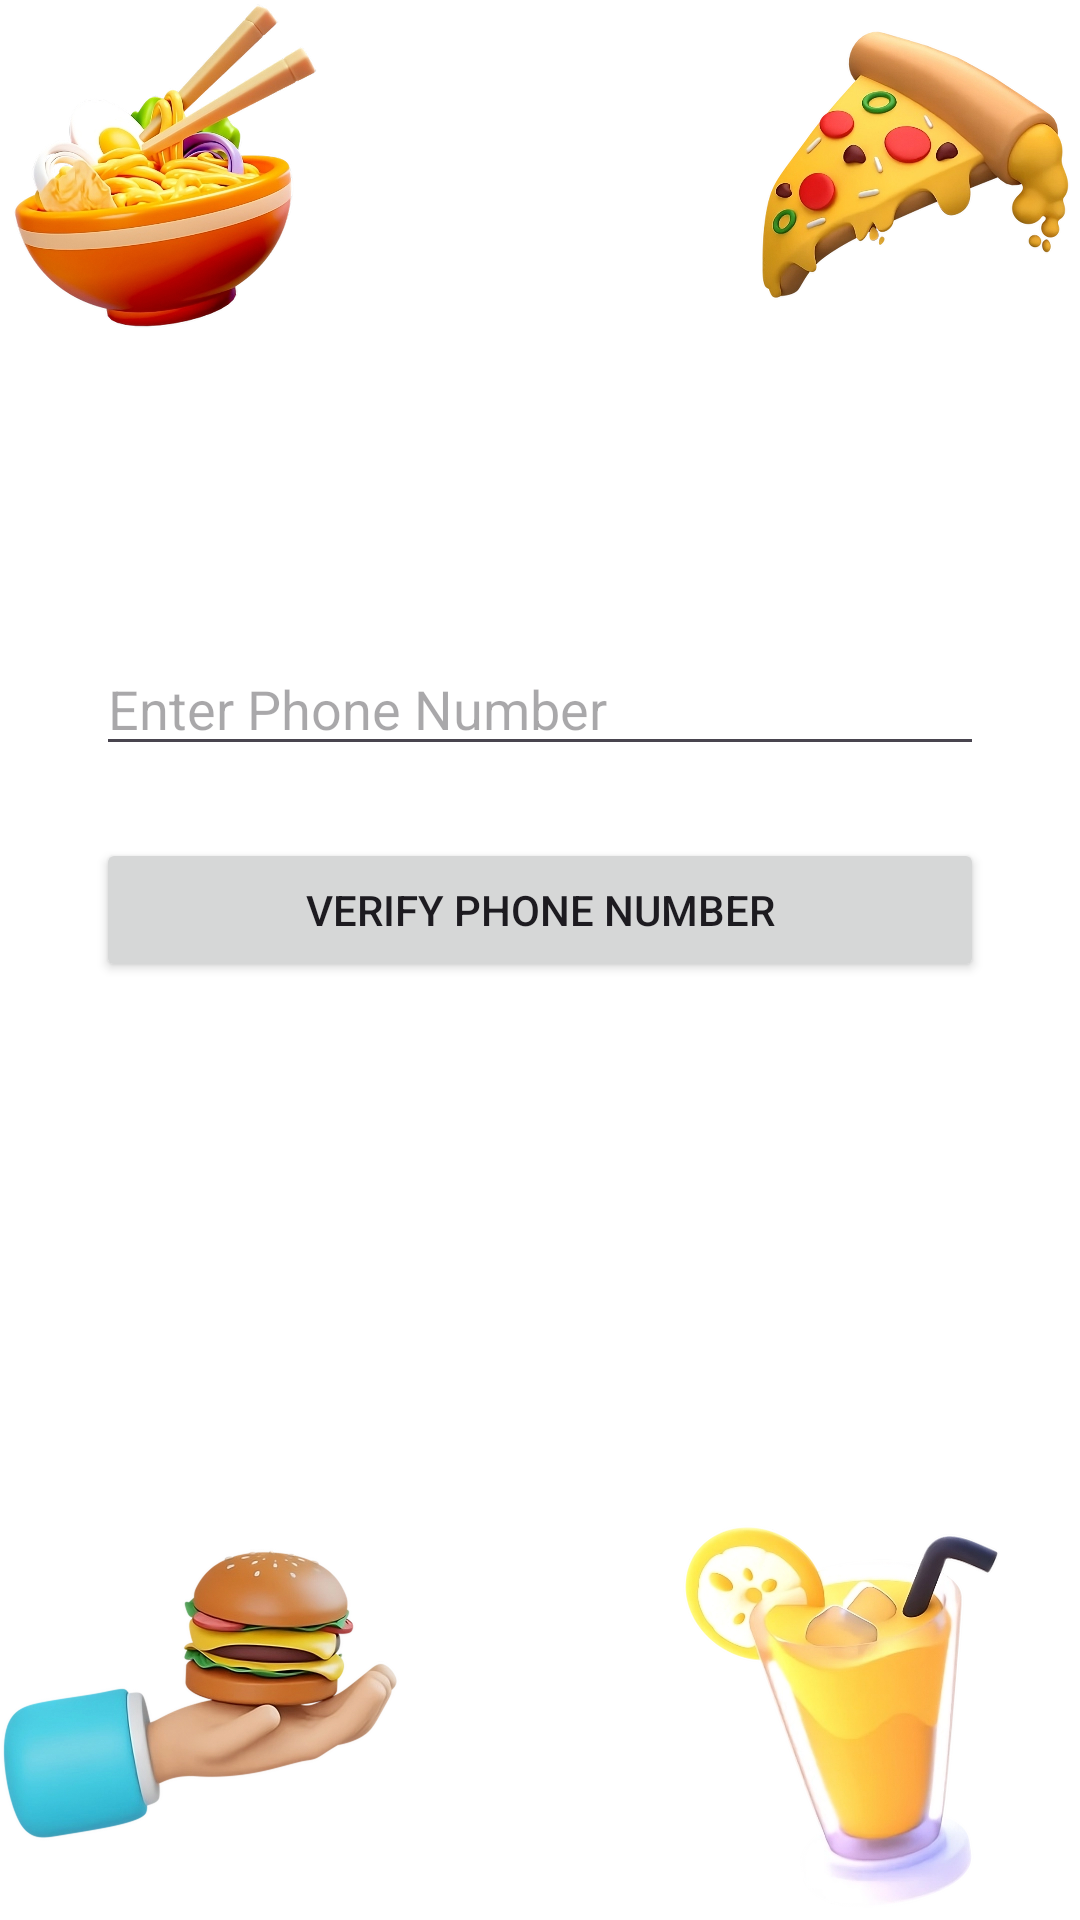

Icon bounding boxes for this 1080 × 1920 phone screenshot, format (x1, y1, x2, y2):
noodles: (15, 6, 316, 327)
pizzaslice: (762, 32, 1069, 298)
